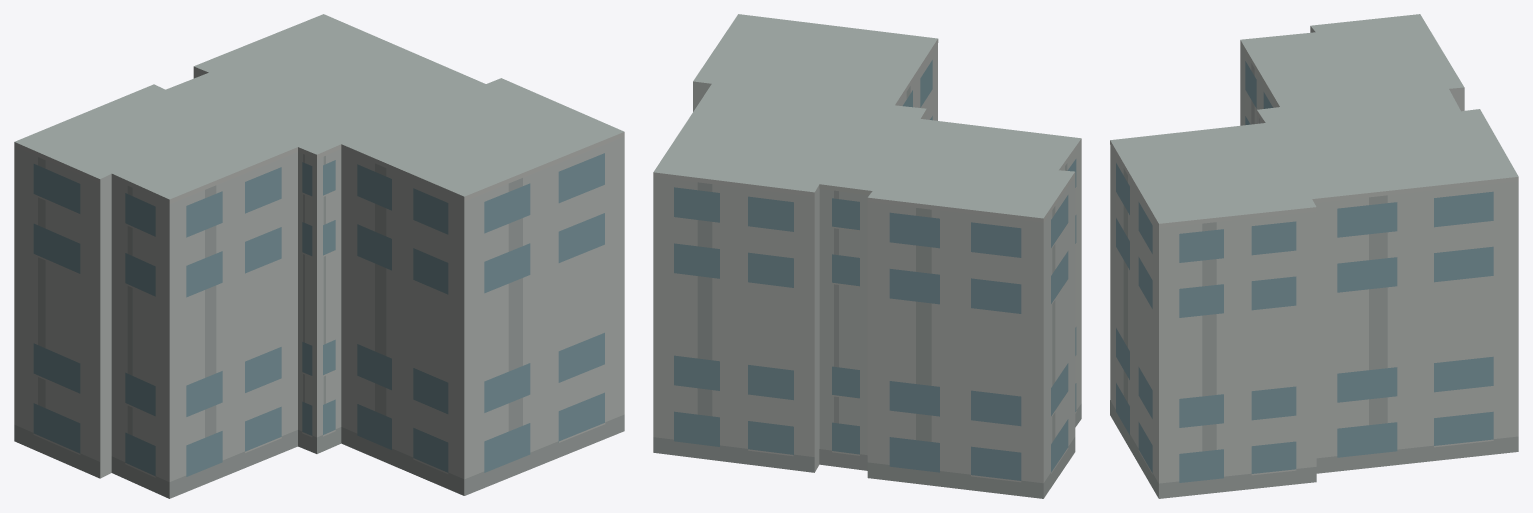
The model's file is survey-upis-32650877.glb.
3 renders of one model, left to right at view 1: azimuth 30°, elevation 25°; view 2: azimuth 150°, elevation 25°; view 3: azimuth 270°, elevation 25°, orthographic. The views are drawn at different scales.
Parts seen in each view (by area): view 1: survey-upis-32650877.tmp; view 2: survey-upis-32650877.tmp; view 3: survey-upis-32650877.tmp.
Part boxes in pixels (x1,y1,x2,y2): survey-upis-32650877.tmp: (14, 14, 624, 498); survey-upis-32650877.tmp: (653, 14, 1081, 498); survey-upis-32650877.tmp: (1110, 14, 1518, 498).
Bounding box in the file's own units: 24.96 × 15.25 × 20.54.
